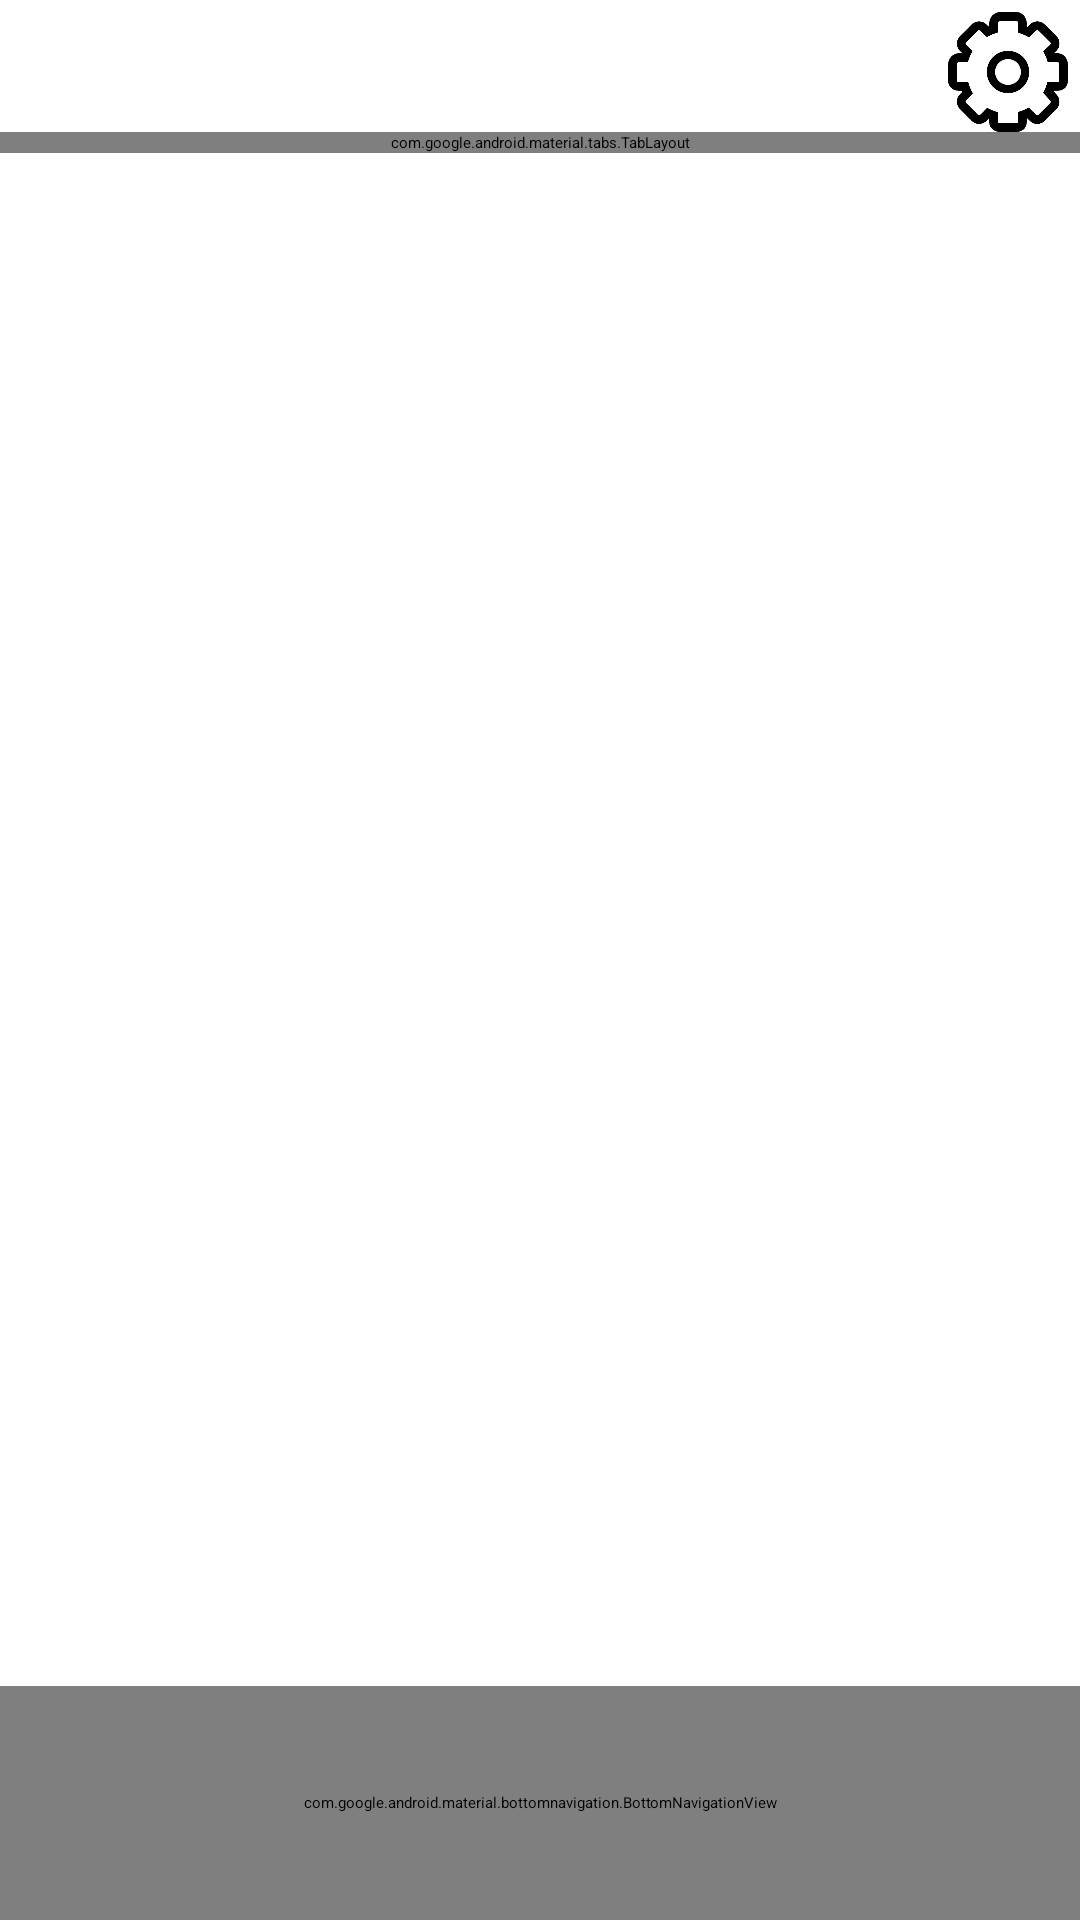

Icon click points for this 1080 x 1920 phone screenshot, format (x=x, y=y):
Settings: (x=1008, y=72)
